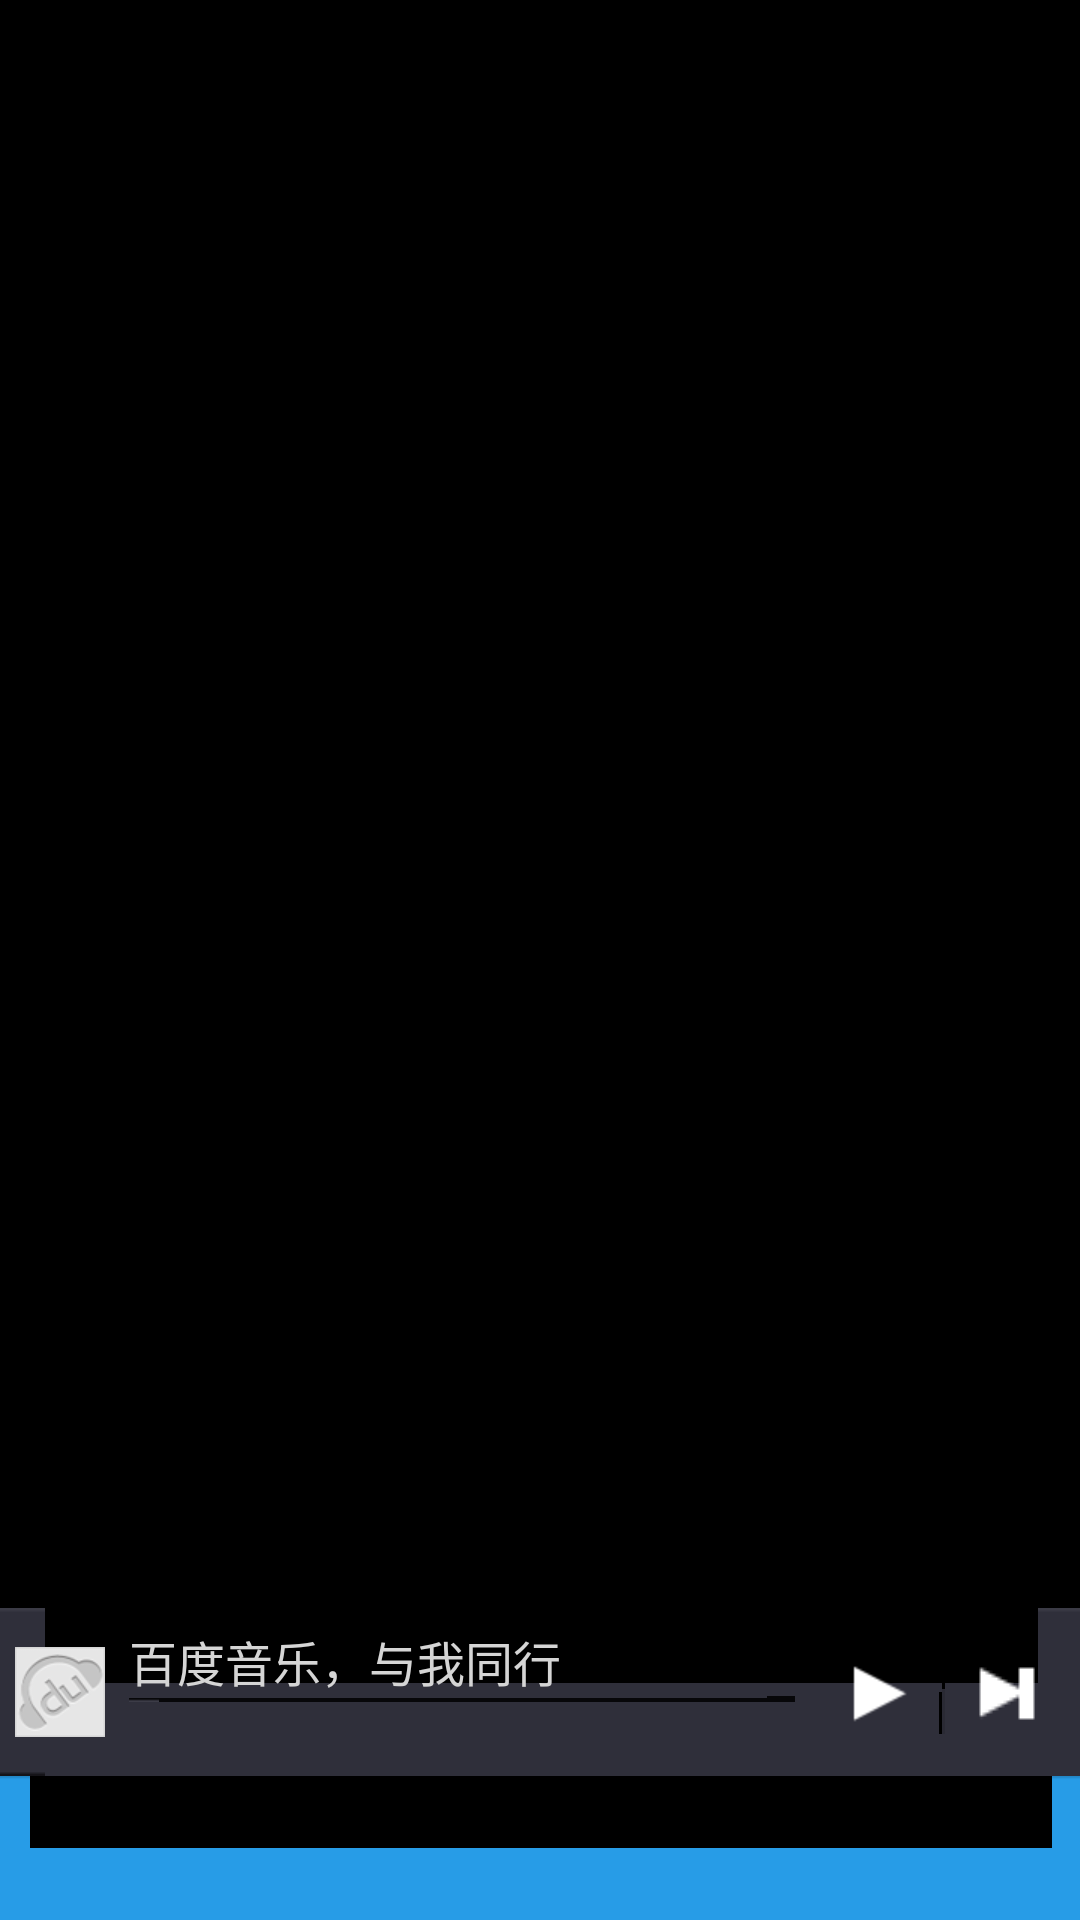

Icons on this 1080×1920 Android screen, each with the point to tap as (x,y):
general mini playing next: (991,1676)
